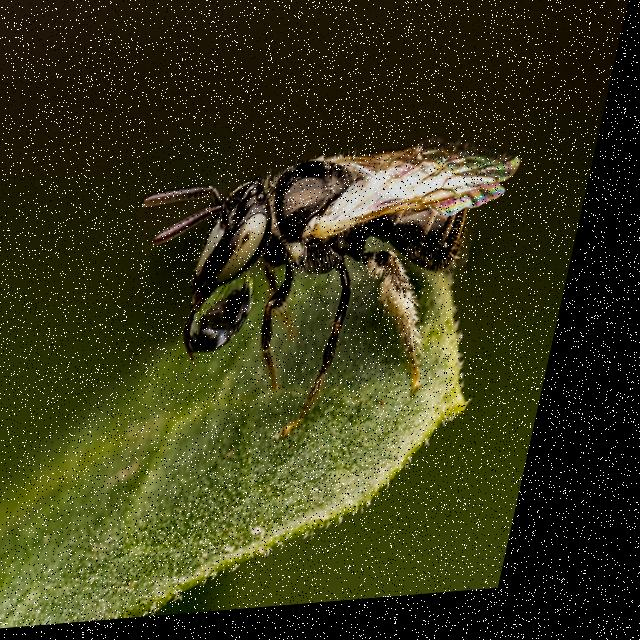Braunsapis: (110, 123, 550, 431)
